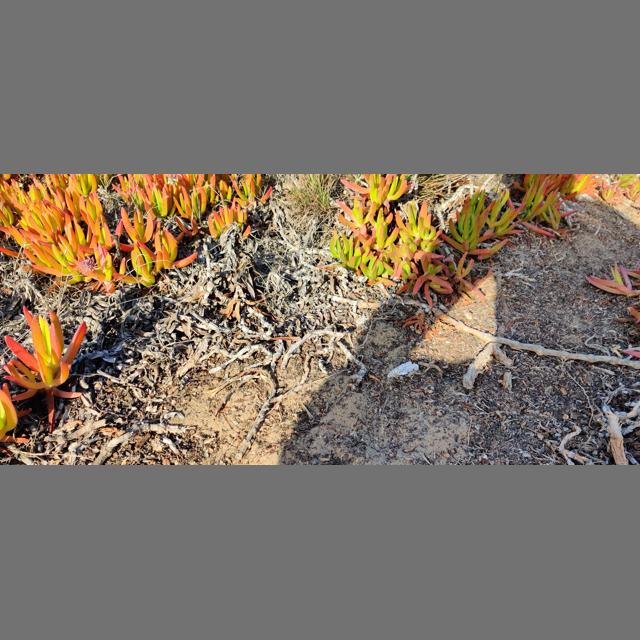litter: (388, 362, 419, 378)
